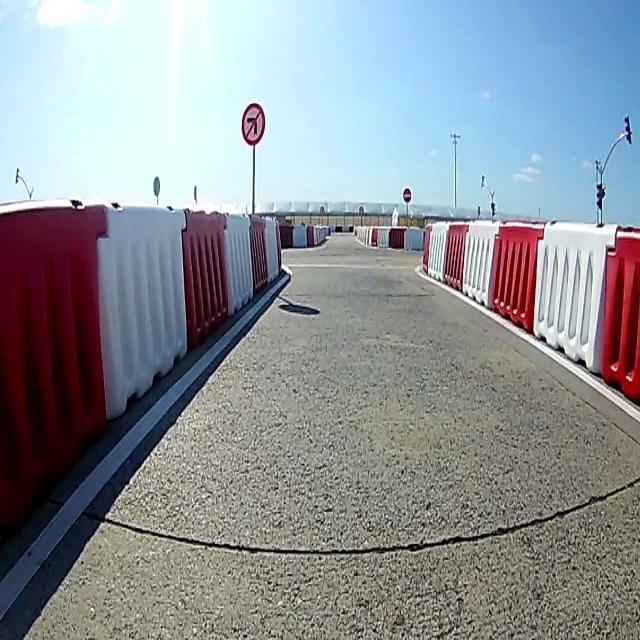girisyok: (402, 188, 412, 204)
soladonulmez: (241, 102, 266, 145)
